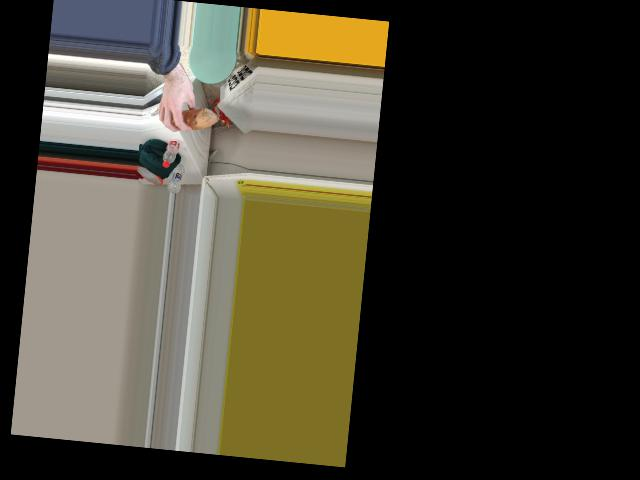sweet_potato: (175, 110, 210, 128)
